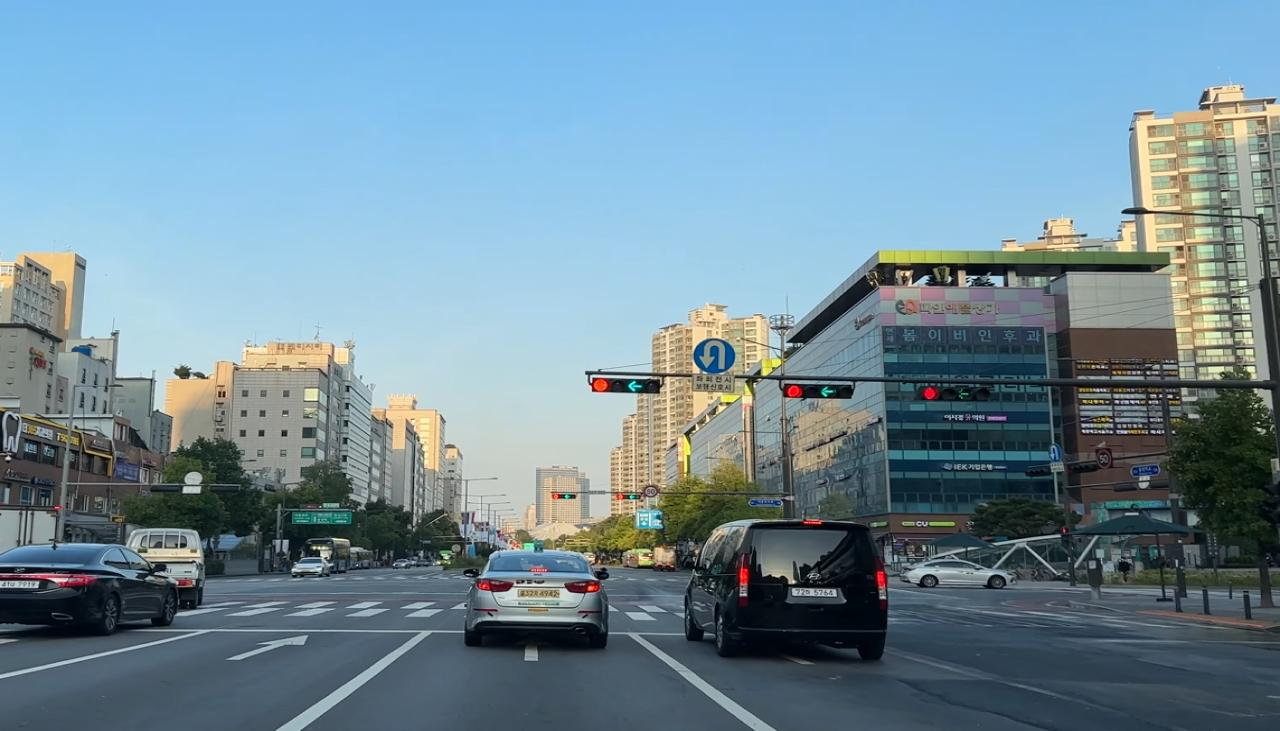Left turn: (626, 379, 643, 393), (820, 384, 837, 398), (957, 388, 973, 401), (628, 494, 636, 500), (563, 494, 570, 499)
Red Light: (591, 377, 609, 392), (616, 493, 624, 500), (552, 494, 559, 500)
